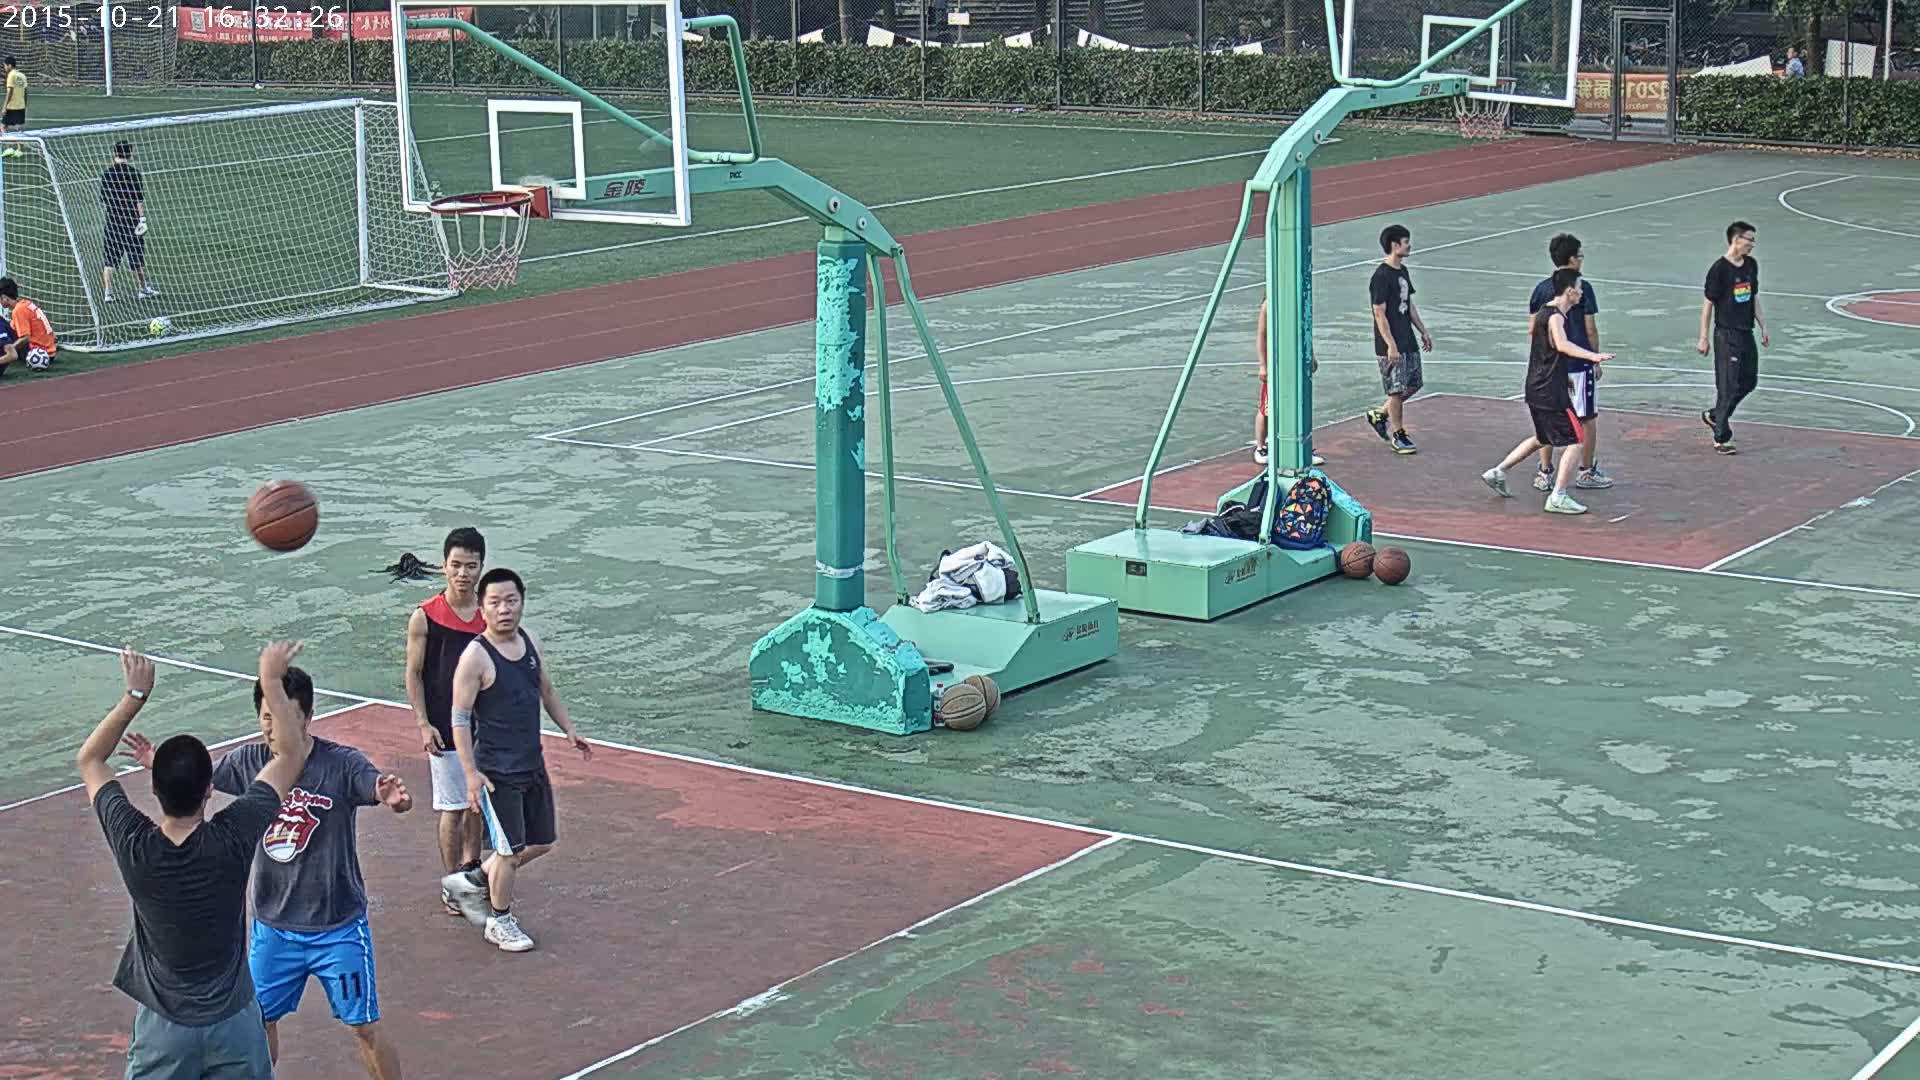person: (112, 666, 412, 1080), (73, 638, 307, 1080), (438, 567, 593, 951), (404, 526, 498, 916), (1481, 266, 1616, 514), (1528, 232, 1615, 492), (1696, 219, 1769, 454), (1365, 223, 1433, 454), (1253, 293, 1327, 465), (100, 139, 161, 302), (0, 277, 57, 365), (0, 55, 28, 158), (1784, 46, 1806, 82)
